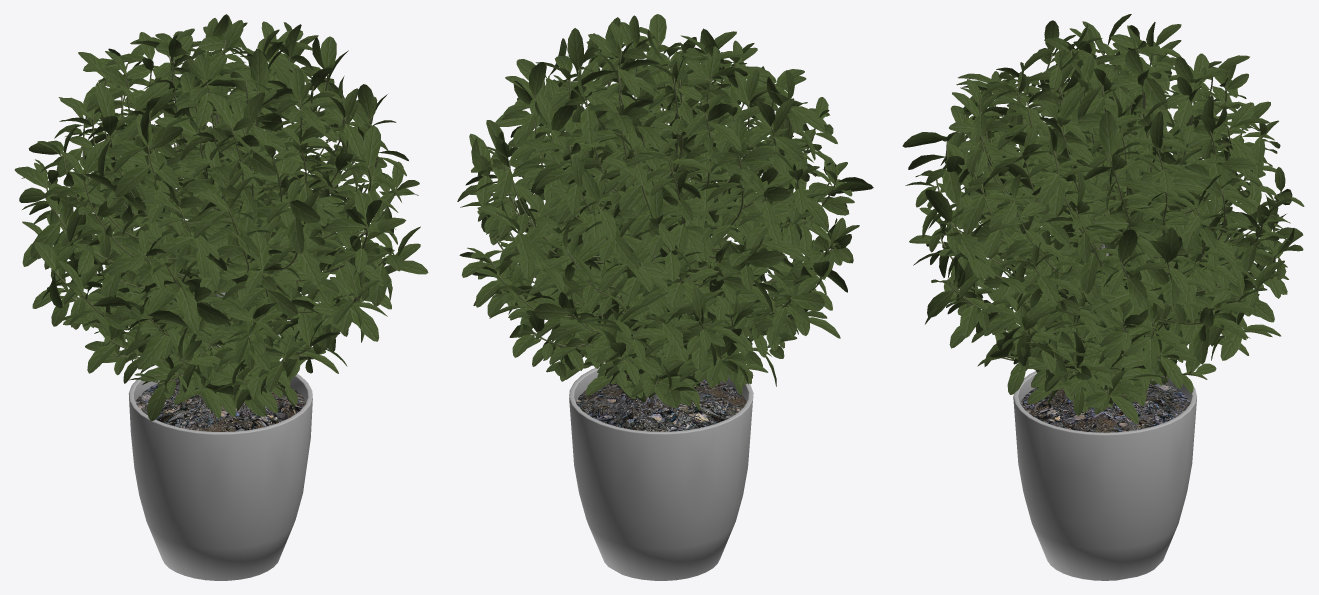
Rendered from maceta_lp.glb.
3 views of the same model, side by side, from view 1: azimuth 30°, elevation 25°; view 2: azimuth 150°, elevation 25°; view 3: azimuth 270°, elevation 25° (orthographic).
Parts seen in each view (by area): view 1: ARBUSTO004; view 2: ARBUSTO004; view 3: ARBUSTO004.
Part boxes in pixels (<box>): ARBUSTO004: <box>14,14,428,580</box>; ARBUSTO004: <box>457,14,873,580</box>; ARBUSTO004: <box>902,14,1304,580</box>.
Size of the model in its own units: 0.7693 by 1.13 by 0.7944.
3 materials, 2 textured.
